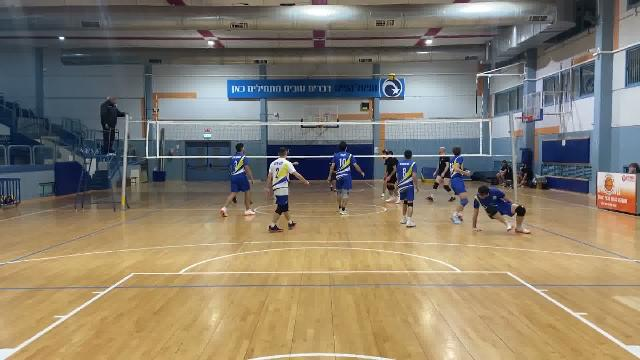ball: (387, 74, 397, 81)
